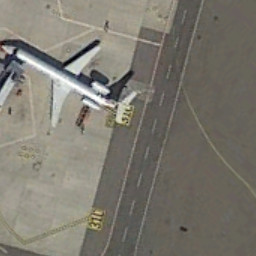Airplane: (1, 19, 143, 139)
